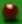brown: (0, 0, 22, 24)
